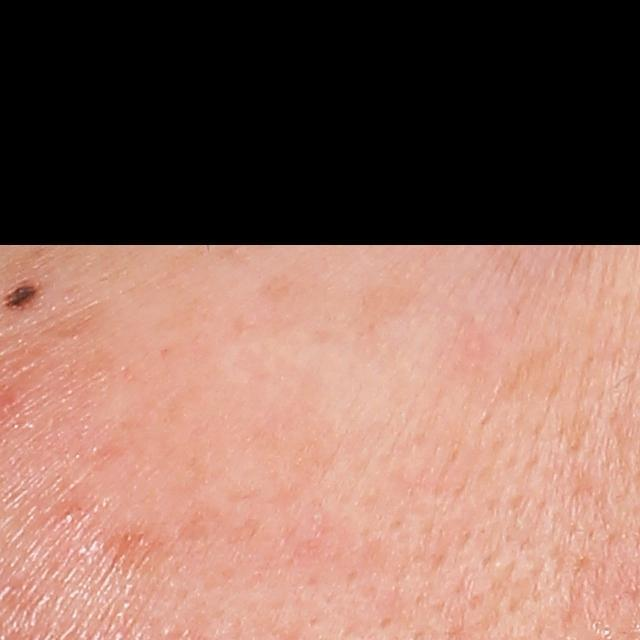melasma: (354, 275, 431, 333)
